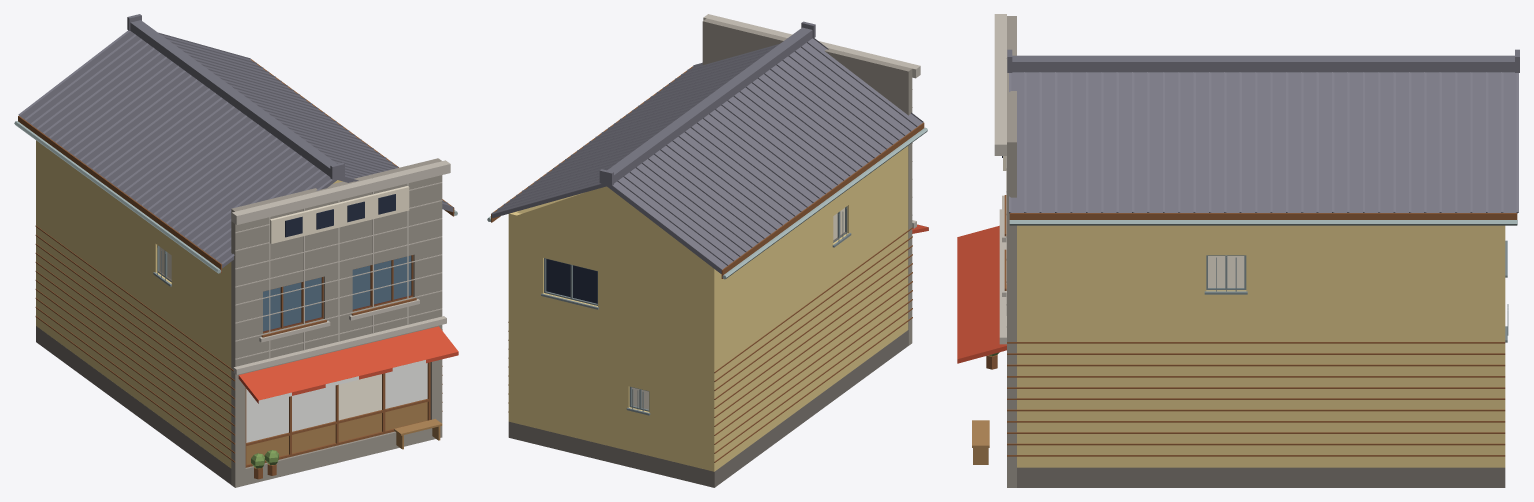
Rendered from tb_kanban_shop_2f_01_b.fbx.
3 renders of one model, left to right at view 1: azimuth 30°, elevation 25°; view 2: azimuth 150°, elevation 25°; view 3: azimuth 270°, elevation 25°, orthographic. The views are drawn at different scales.
Parts seen in each view (by area): view 1: tb_kanban_shop_2f_01_b; view 2: tb_kanban_shop_2f_01_b; view 3: tb_kanban_shop_2f_01_b.
Part boxes in pixels (box(x1,y1,x2,y2)): tb_kanban_shop_2f_01_b: box(14, 14, 458, 487); tb_kanban_shop_2f_01_b: box(487, 14, 928, 487); tb_kanban_shop_2f_01_b: box(957, 14, 1519, 487).
Size of what is drawn, in the model's own units: 6.98 by 8.23 by 11.3.
Materials: 2 (2 with a texture image).
